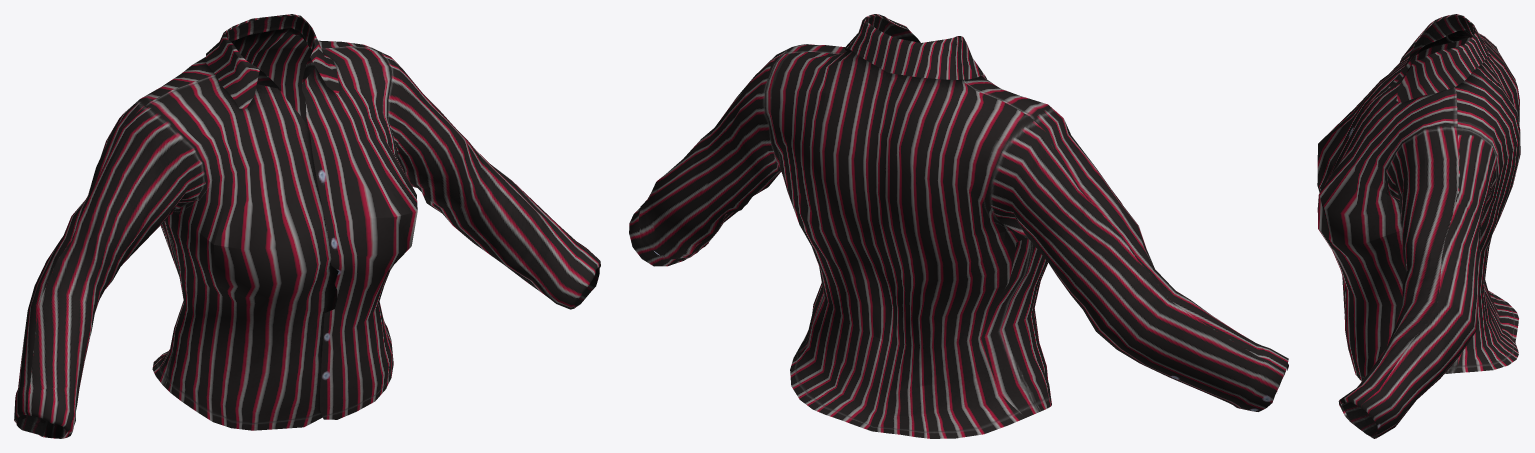
The model's file is LXS_SMF.dae.
3 views of the same model, side by side, from view 1: azimuth 30°, elevation 25°; view 2: azimuth 150°, elevation 25°; view 3: azimuth 270°, elevation 25° (orthographic). The views are drawn at different scales.
Parts seen in each view (by area): view 1: shirt01Mesh; view 2: shirt01Mesh; view 3: shirt01Mesh.
Boxes of the visible parts, left/top/right/bottom form: shirt01Mesh: left=14, top=14, right=600, bottom=438; shirt01Mesh: left=629, top=14, right=1288, bottom=438; shirt01Mesh: left=1317, top=14, right=1520, bottom=438.
Size of the model in its own units: 8.51 by 5.02 by 2.8.
